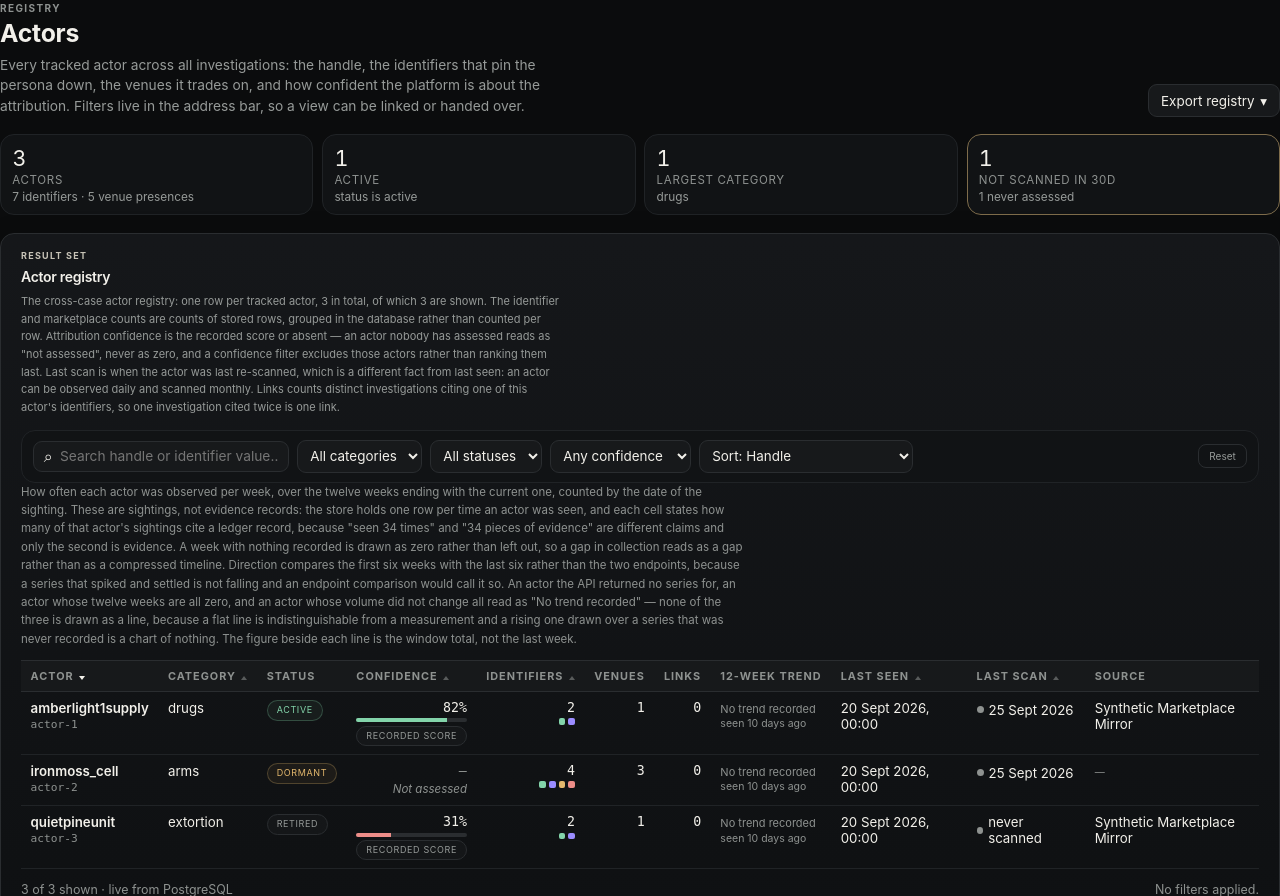
Scenario: ActorsPage › puts filters and sort in the URL, not in component state
The width and height of the screenshot is (1280, 896).
Check: the table named "Actor registry" is shown, box [21,661,1259,869]
Step 1. Type "nightjar" into the field named "Search actors by handle or identifier" → {"x": 169, "y": 456}, box [60,442,279,471]
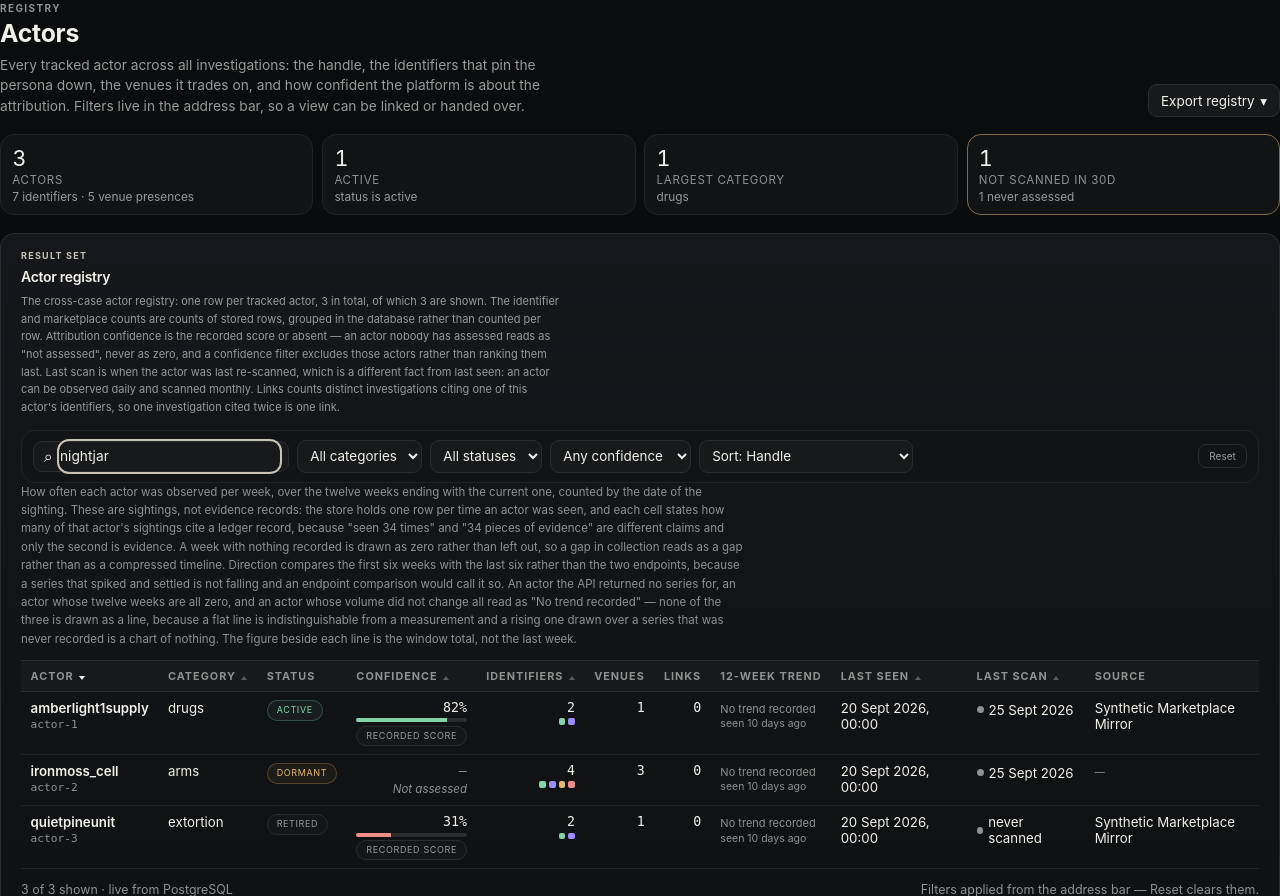
Step 2. Select "drugs (1)" in the dropdown named "Filter by category" → {"x": 360, "y": 456}, box [297,440,422,473]
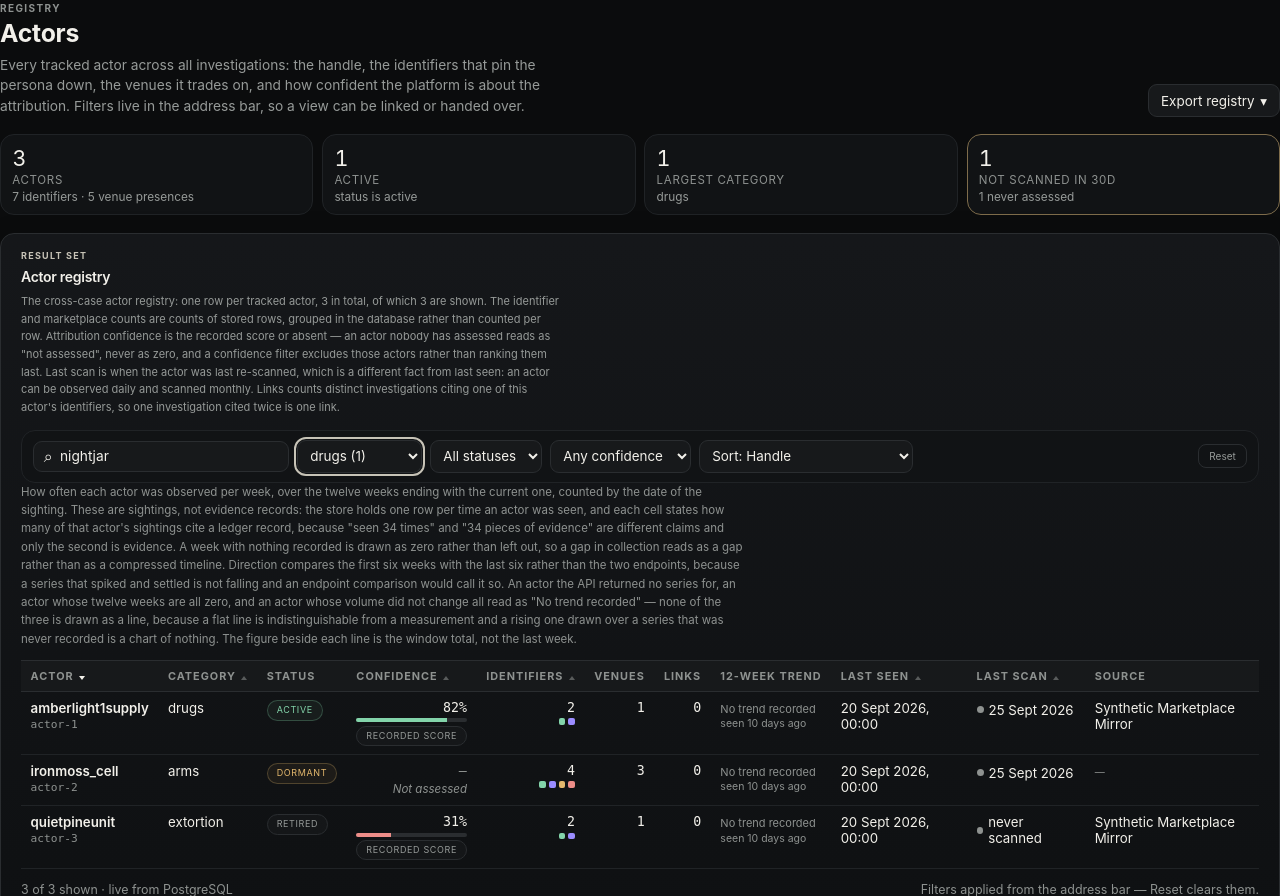
Step 3. Select "90%+ assessed" in the dropdown named "Minimum attribution confidence" → {"x": 621, "y": 456}, box [550,440,691,473]
(page scrolled)
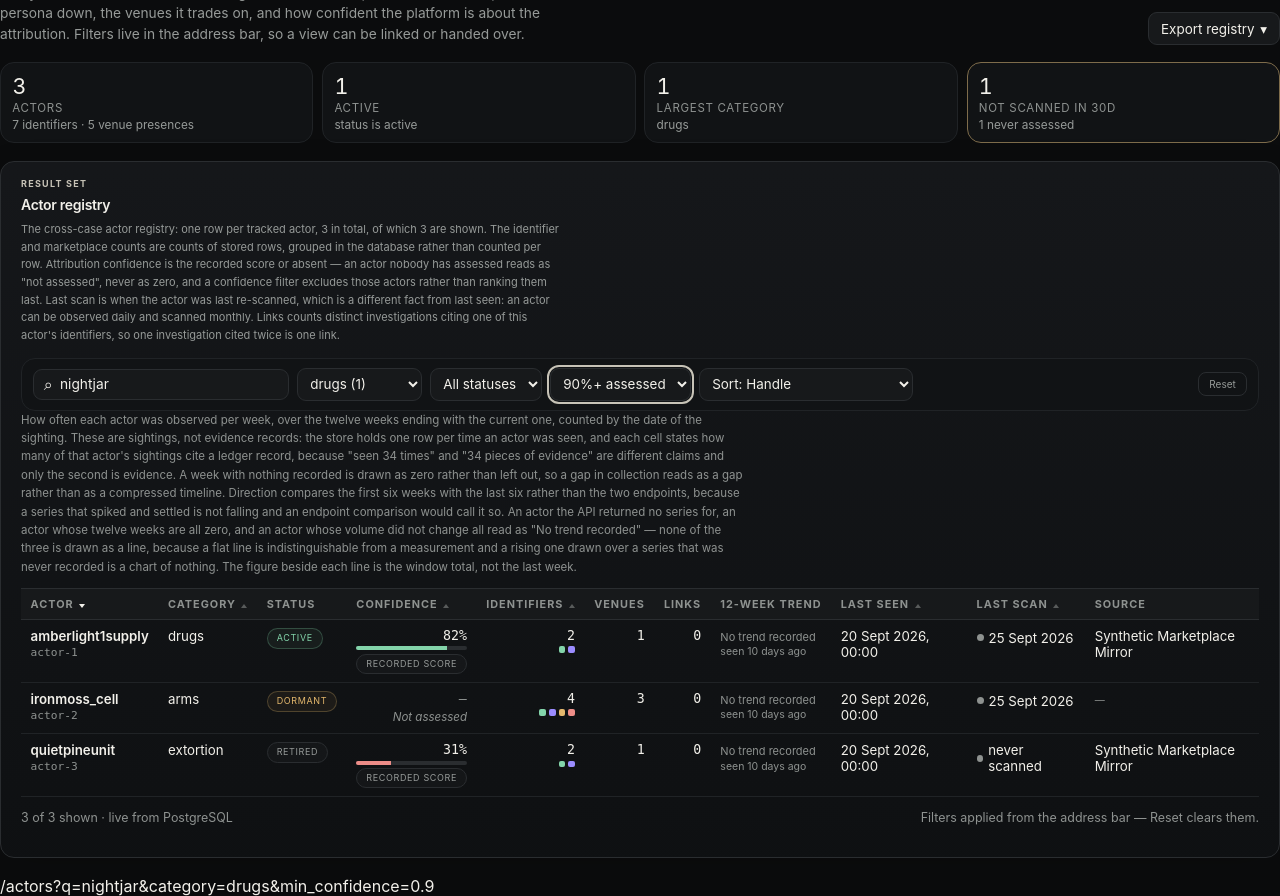
Check: the text with test id "location" shows "min_confidence=0.9", box [0,876,434,895]
